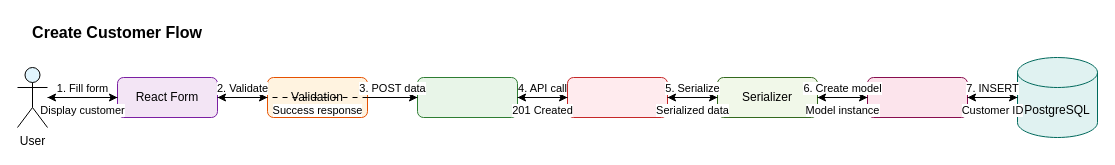
This 1115x165 diagram has some shape labels left out. Each missing label, with the box of its shape:
API Service: (416, 76, 518, 118)
Django API: (566, 76, 668, 118)
Model: (866, 76, 968, 118)
